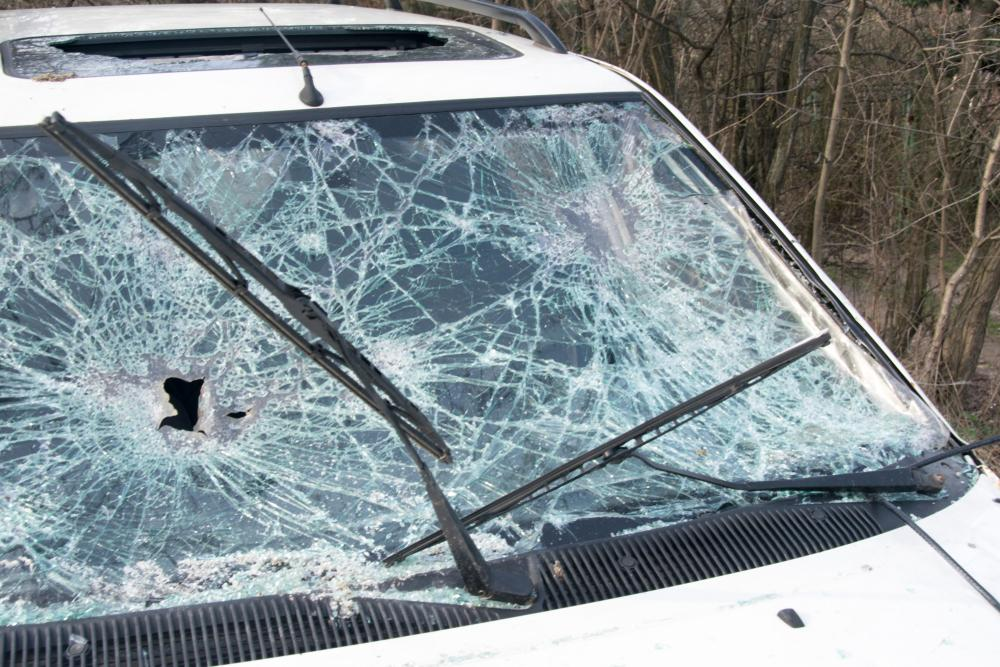glass shatter: (0, 99, 952, 628)
